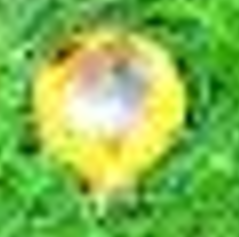pomegranate_C: (32, 24, 188, 194)
